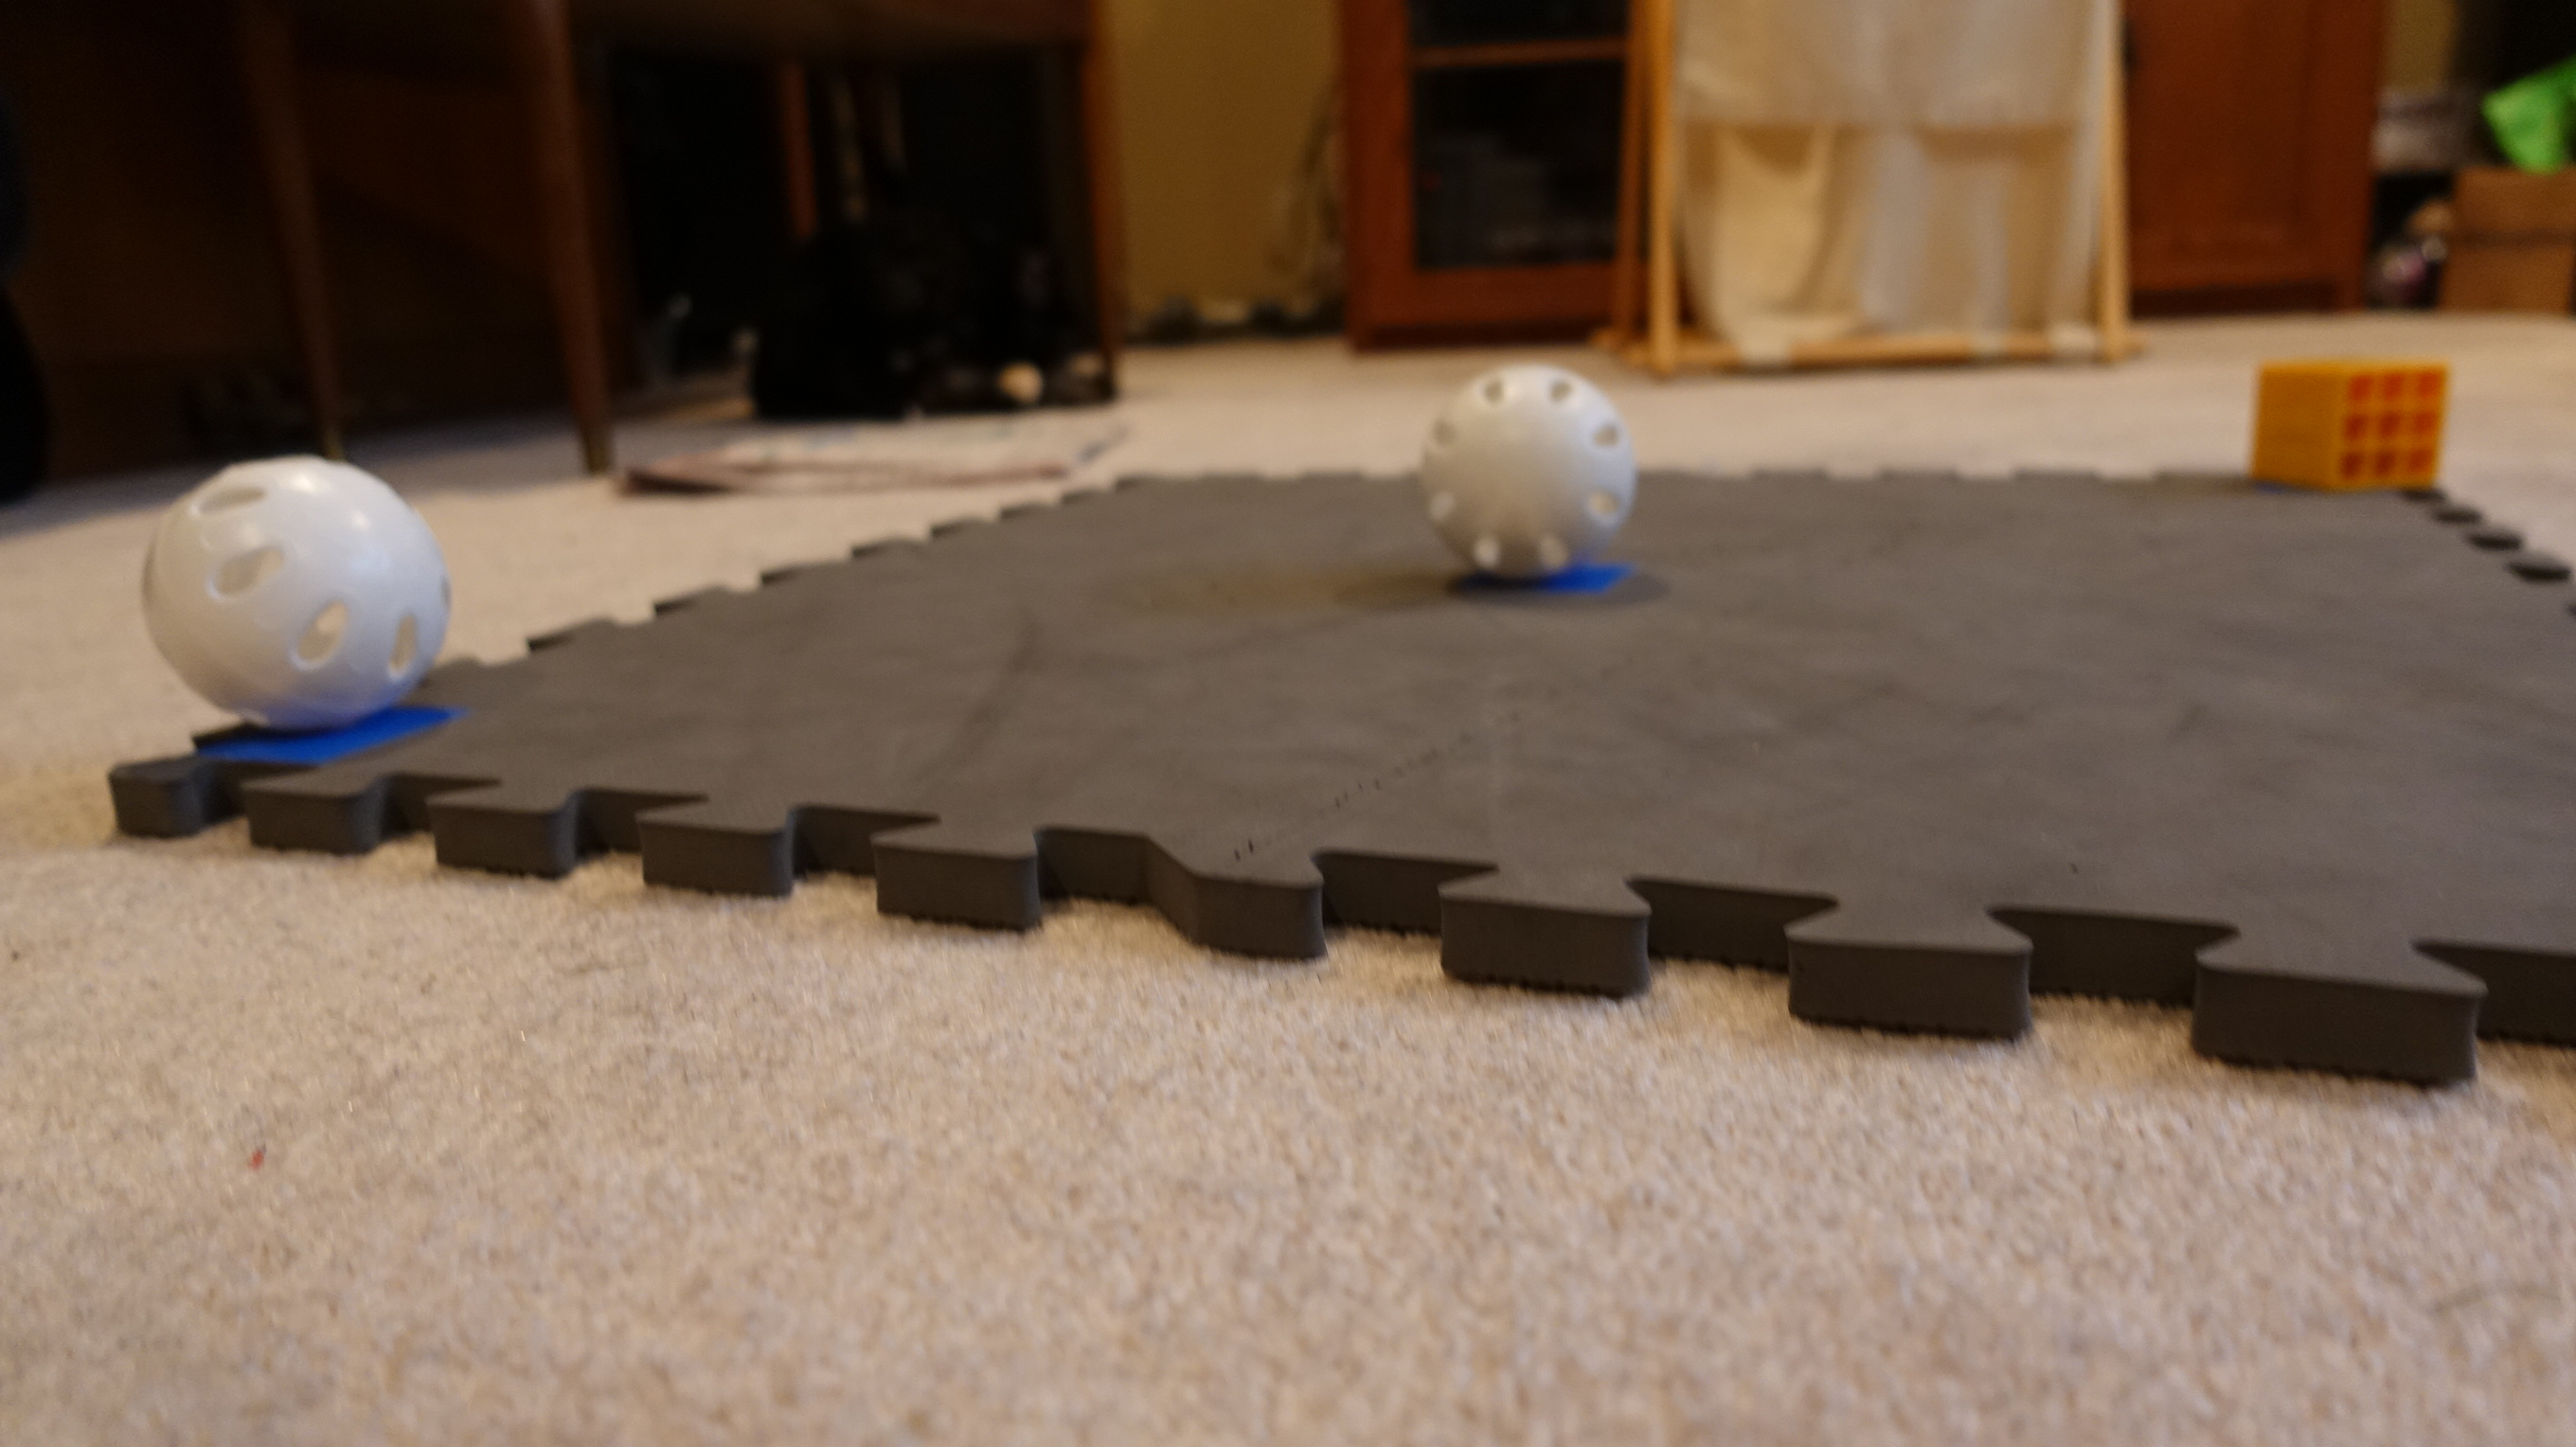gold: (2252, 352, 2450, 494)
silver: (133, 453, 453, 738), (1415, 359, 1649, 586)
